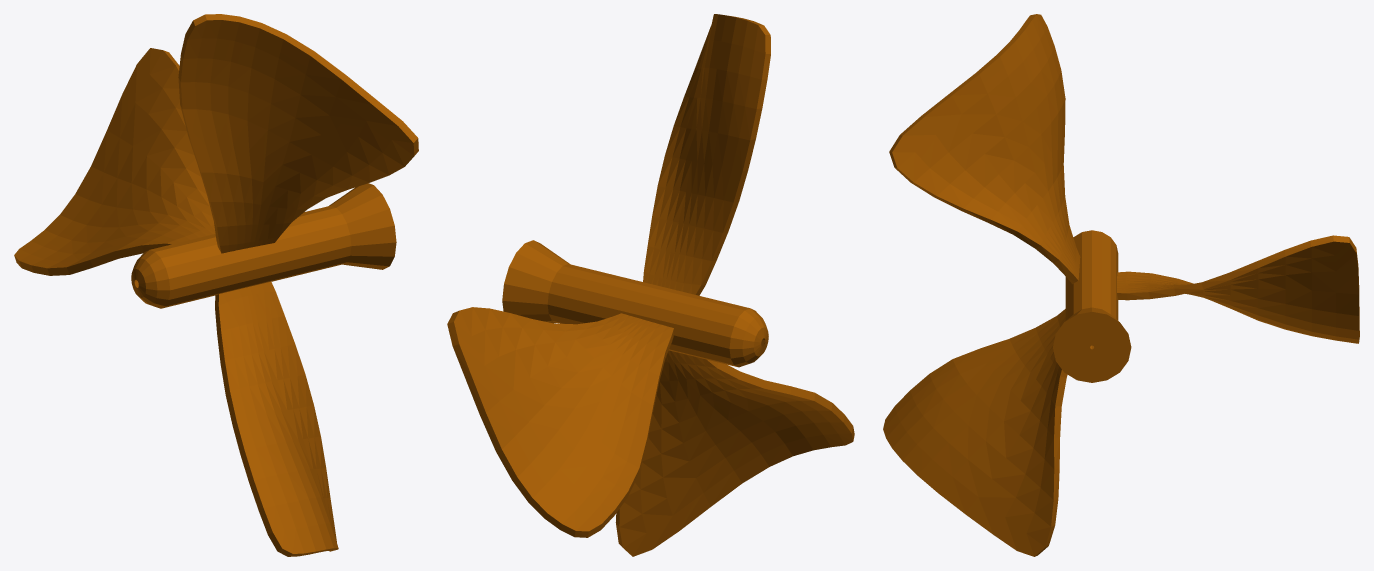
File: propeller(lauv).obj
3 views of the same model, side by side, from view 1: azimuth 30°, elevation 25°; view 2: azimuth 150°, elevation 25°; view 3: azimuth 270°, elevation 25° (orthographic). The views are drawn at different scales.
Parts seen in each view (by area): view 1: propeller; view 2: propeller; view 3: propeller.
Part boxes in pixels (x1=…): propeller: x1=14, y1=14, x2=418, y2=556; propeller: x1=447, y1=14, x2=854, y2=556; propeller: x1=883, y1=14, x2=1359, y2=556.
Size of the model in its own units: 0.0323 by 0.0727 by 0.0643.
